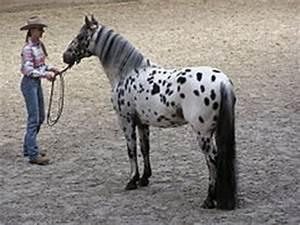horse: (62, 13, 237, 210)
